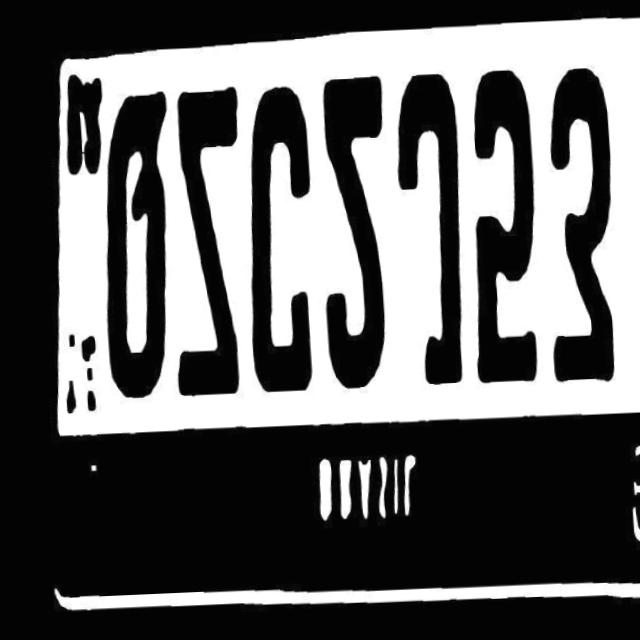2: (309, 74, 397, 411)
3: (530, 63, 628, 394)
5: (455, 64, 544, 399)
c: (232, 78, 321, 406)
j: (387, 60, 472, 408)
q: (85, 80, 182, 406)
z: (156, 83, 252, 425)
